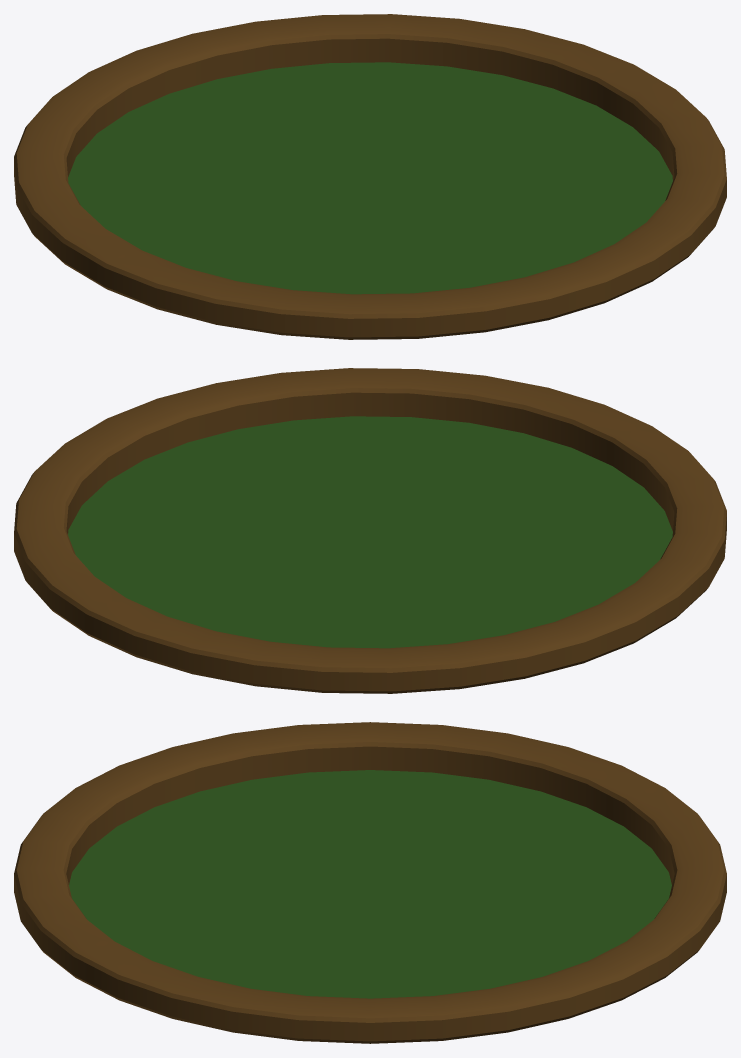
The model's file is SM_Table_Round_Medium.fbx.
The picture shows the model from 3 angles, top to bottom: view 1: azimuth 30°, elevation 25°; view 2: azimuth 150°, elevation 25°; view 3: azimuth 270°, elevation 25°; orthographic projection.
Parts seen in each view (by area): view 1: SM_Table_Round_Medium; view 2: SM_Table_Round_Medium; view 3: SM_Table_Round_Medium.
Part boxes in pixels (x1,y1,x2,y2): SM_Table_Round_Medium: (14,14,726,339); SM_Table_Round_Medium: (14,368,726,693); SM_Table_Round_Medium: (14,722,726,1043).
Bounding box in the file's own units: 123 × 5.48 × 125.
